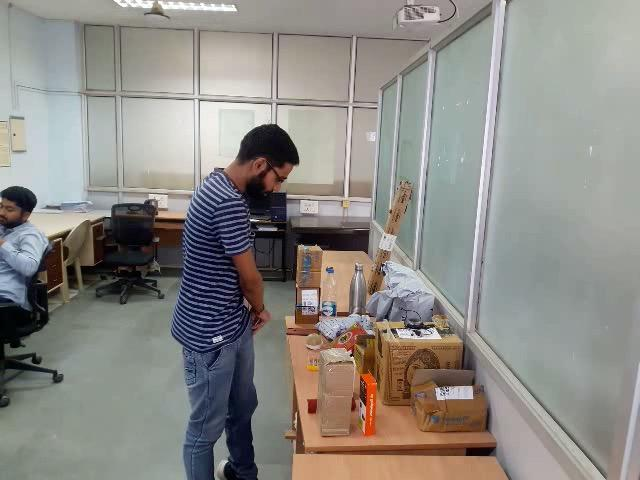shoplifting: (235, 284, 288, 344)
